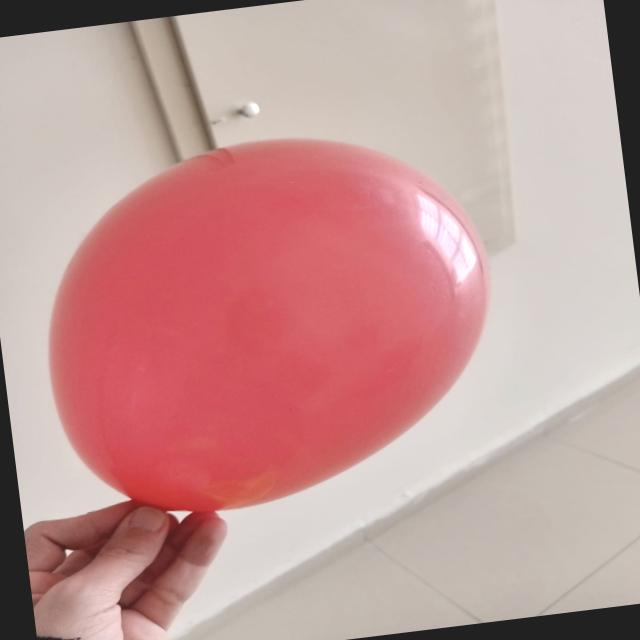balloon: (49, 139, 488, 511)
